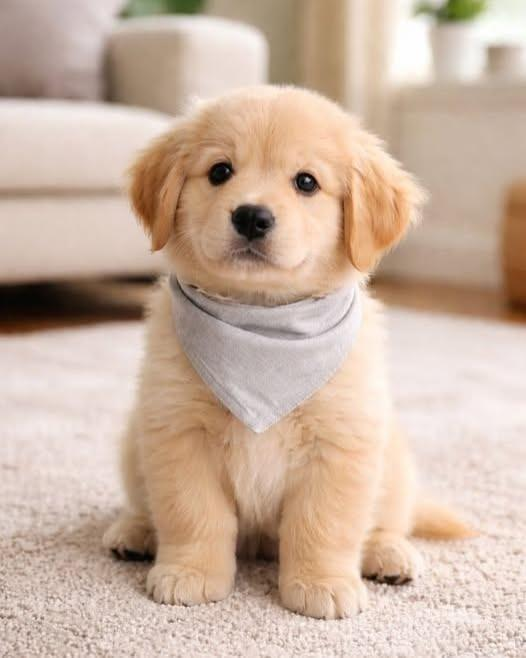puppy-dog: (98, 81, 483, 622)
